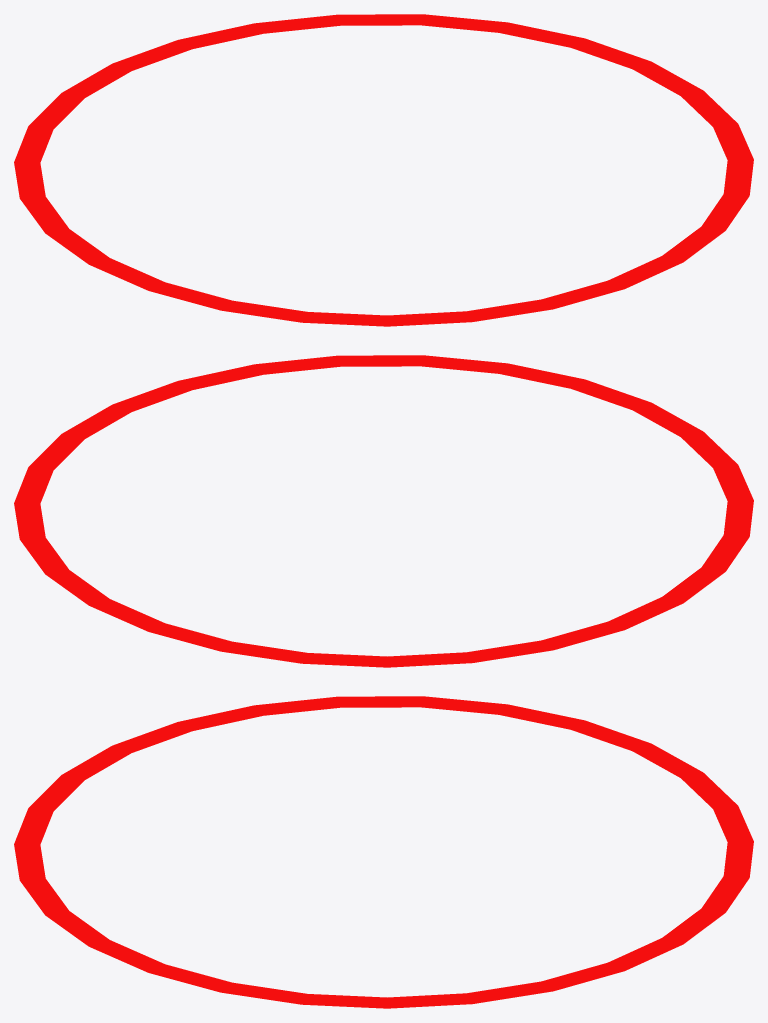
File: Honrrtus-654Ring5.gltf
The picture shows the model from 3 angles, top to bottom: view 1: azimuth 30°, elevation 25°; view 2: azimuth 150°, elevation 25°; view 3: azimuth 270°, elevation 25°; orthographic projection.
Size of the model in its own units: 148 by 0 by 148.
